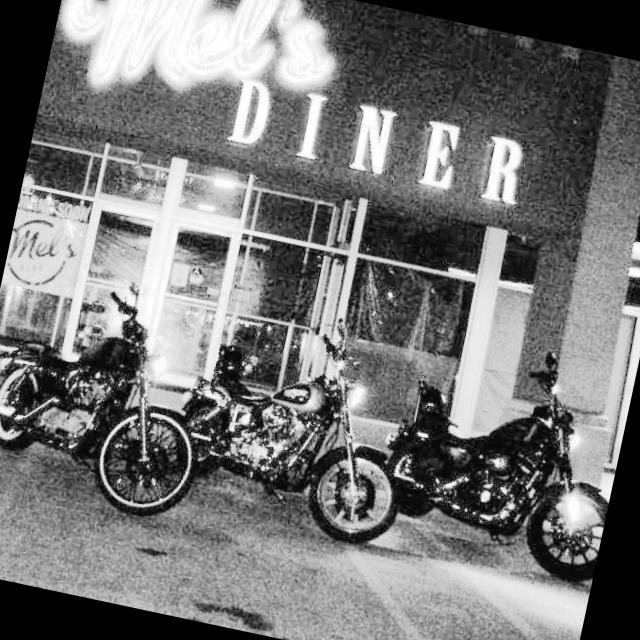Motorcycle: (146, 266, 440, 565), (360, 328, 634, 594), (0, 226, 236, 531)
